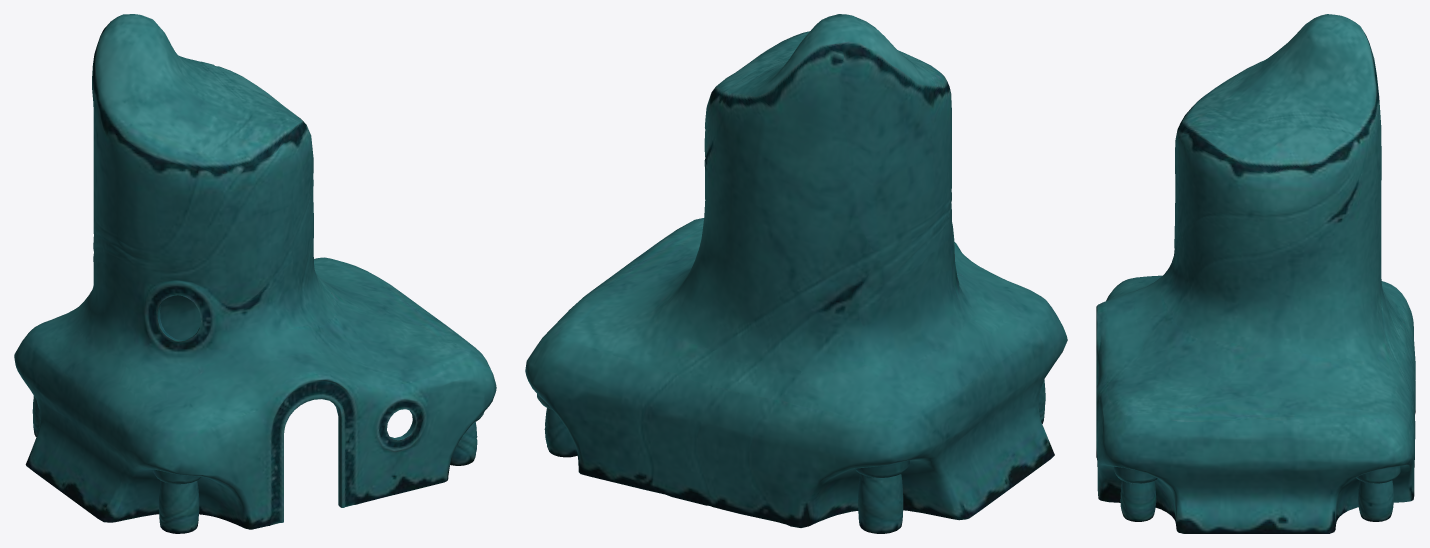
Rendered from sky_hut_c_soma_v35.glb.
The picture shows the model from 3 angles, left to right: view 1: azimuth 30°, elevation 25°; view 2: azimuth 150°, elevation 25°; view 3: azimuth 270°, elevation 25°; orthographic projection. The views are drawn at different scales.
Visible parts, largest first — view 1: hut_c; view 2: hut_c; view 3: hut_c.
Boxes of the visible parts, x1,y1,x2,y2 form: hut_c: (14,14,496,533); hut_c: (525,14,1067,533); hut_c: (1096,14,1415,533).
Bounding box in the file's own units: 8.12 × 8.68 × 6.37.
1 material, 1 textured.
